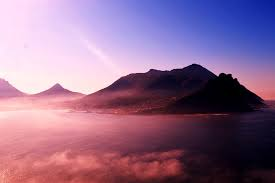lake: (3, 111, 275, 182)
mountain: (85, 65, 268, 115)
sky: (2, 2, 274, 74)
